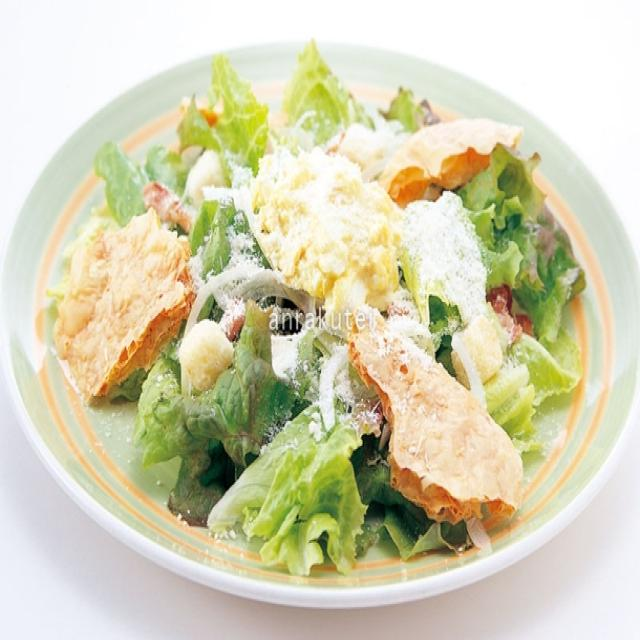蔬菜料理: (35, 44, 608, 585)
